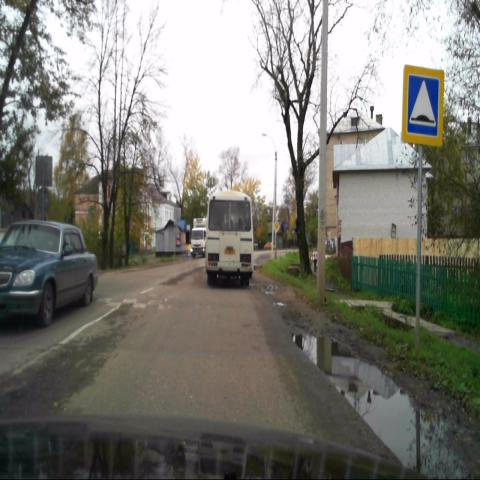5_20: (402, 63, 444, 146)
